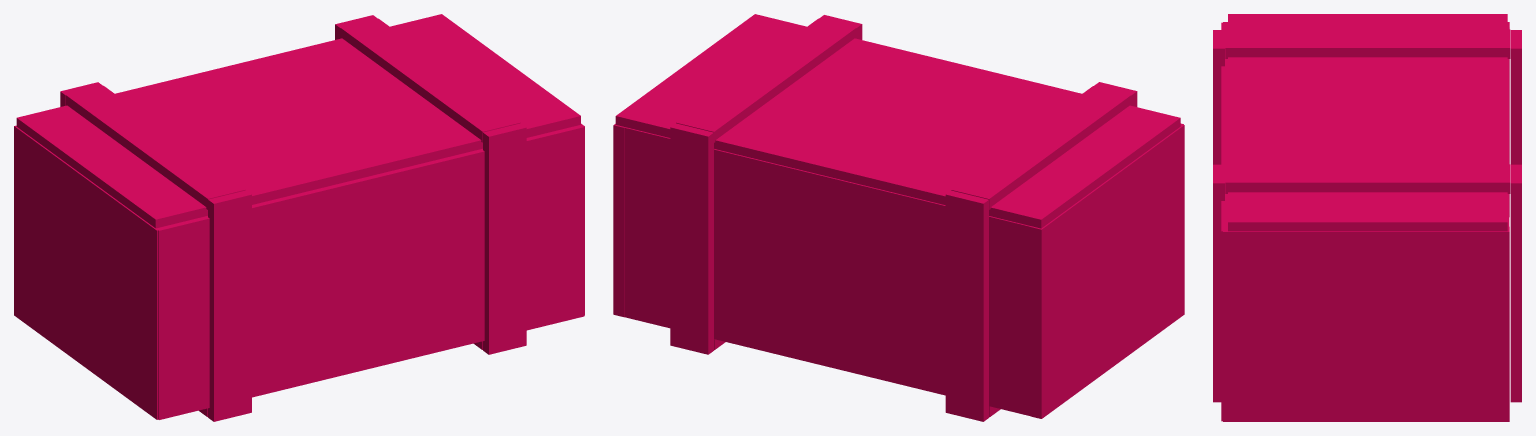
The model's file is Woodbox_03B_Lod0.fbx.
The picture shows the model from 3 angles, left to right: view 1: azimuth 30°, elevation 25°; view 2: azimuth 150°, elevation 25°; view 3: azimuth 270°, elevation 25°; orthographic projection.
Parts seen in each view (by area): view 1: Woodbox_03B_Lod0; view 2: Woodbox_03B_Lod0; view 3: Woodbox_03B_Lod0.
Boxes of the visible parts, <box> form: Woodbox_03B_Lod0: <box>14,14,584,421</box>; Woodbox_03B_Lod0: <box>613,14,1184,421</box>; Woodbox_03B_Lod0: <box>1213,14,1521,421</box>.
Size of the model in its own units: 137 by 66.98 by 85.38.
